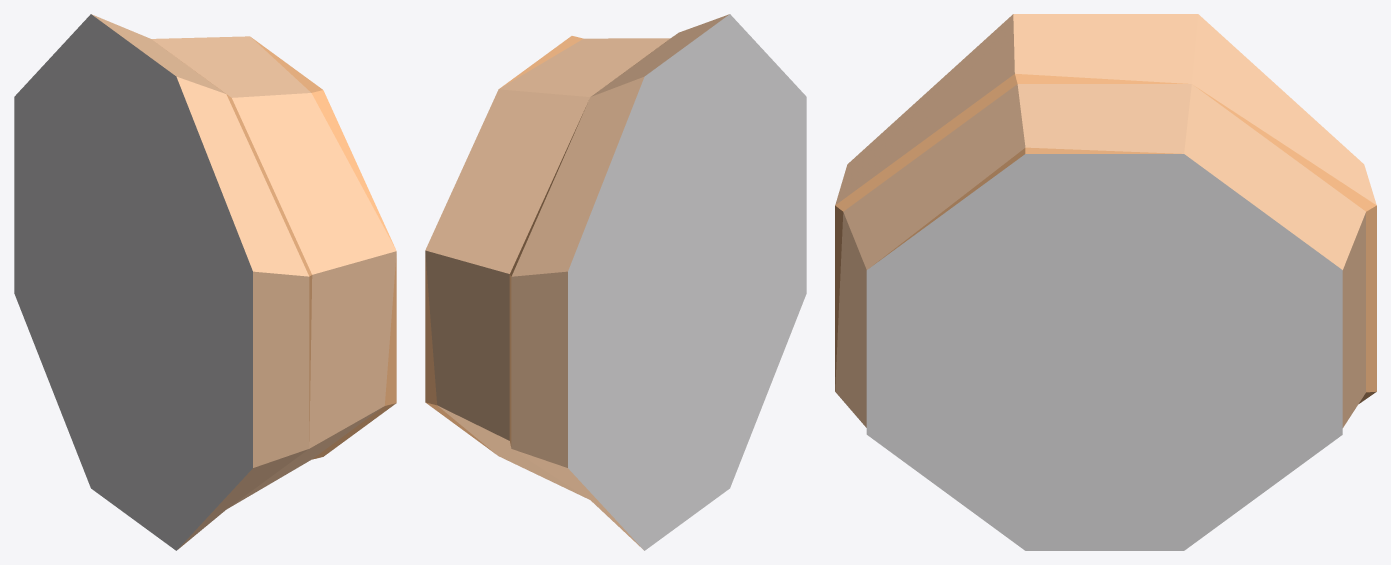
File: parsnip02.gltf
3 views of the same model, side by side, from view 1: azimuth 30°, elevation 25°; view 2: azimuth 150°, elevation 25°; view 3: azimuth 270°, elevation 25° (orthographic). The views are drawn at different scales.
Visible parts, largest first — view 1: Cylinder.001; view 2: Cylinder.001; view 3: Cylinder.001.
Part boxes in pixels (x1=…): Cylinder.001: x1=14, y1=14, x2=396, y2=550; Cylinder.001: x1=425, y1=14, x2=806, y2=550; Cylinder.001: x1=835, y1=14, x2=1376, y2=550.
Bounding box in the file's own units: 0.0106 × 0.0315 × 0.0301.
1 material, 1 textured.
